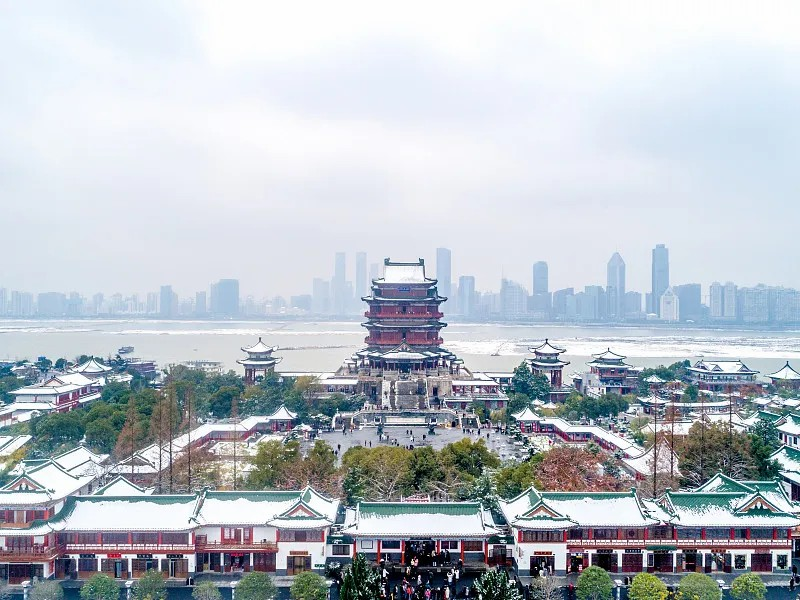Teng: (344, 259, 465, 372)
